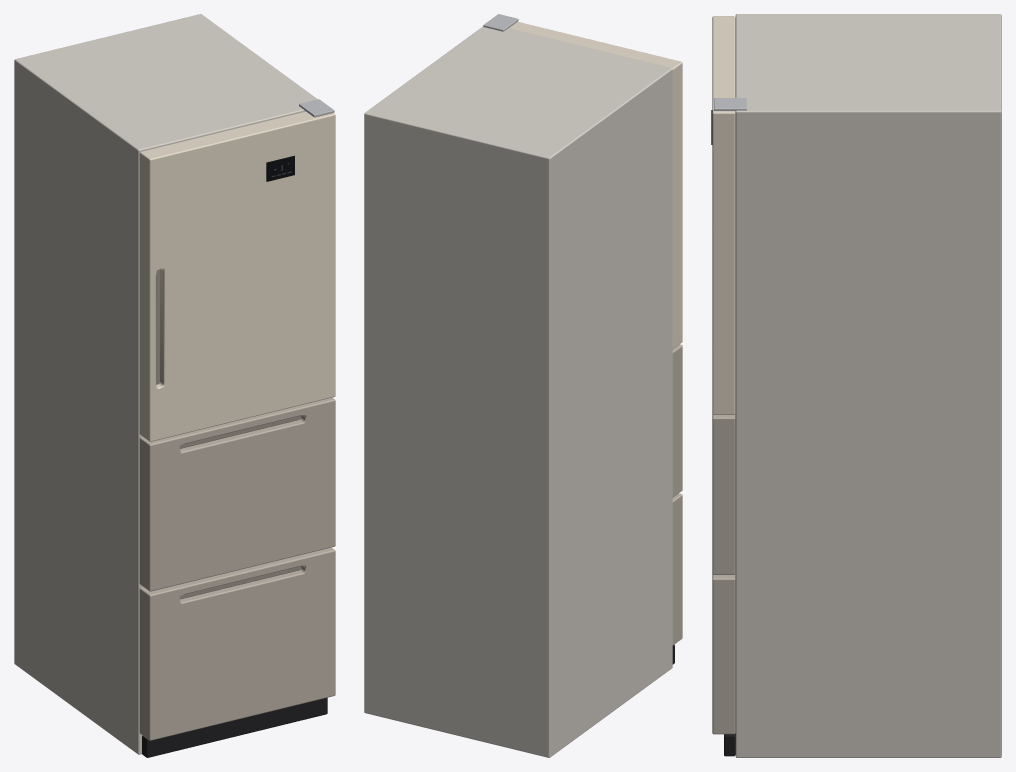
The model's file is kimchi_fridge.glb.
3 views of the same model, side by side, from view 1: azimuth 30°, elevation 25°; view 2: azimuth 150°, elevation 25°; view 3: azimuth 270°, elevation 25° (orthographic). The views are drawn at different scales.
Parts seen in each view (by area): view 1: kimchi_fridge_fronts, kimchi_fridge_cabinet, kimchi_fridge_display; view 2: kimchi_fridge_cabinet, kimchi_fridge_fronts; view 3: kimchi_fridge_cabinet, kimchi_fridge_fronts.
Part boxes in pixels (x1,y1,x2,y2): kimchi_fridge_fronts: (139,111,335,740); kimchi_fridge_cabinet: (14,14,327,757); kimchi_fridge_display: (266,155,294,181); kimchi_fridge_cabinet: (364,26,674,757); kimchi_fridge_fronts: (509,22,682,645); kimchi_fridge_cabinet: (724,14,1001,757); kimchi_fridge_fronts: (712,16,735,734).
Size of the model in its own units: 0.6 by 1.86 by 0.7532.
Materials: 8 (1 with a texture image).
